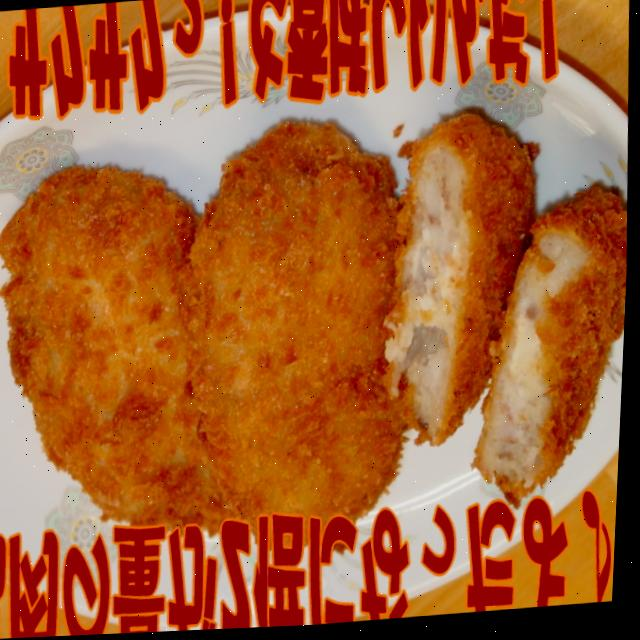炸货点心: (0, 109, 635, 532)
